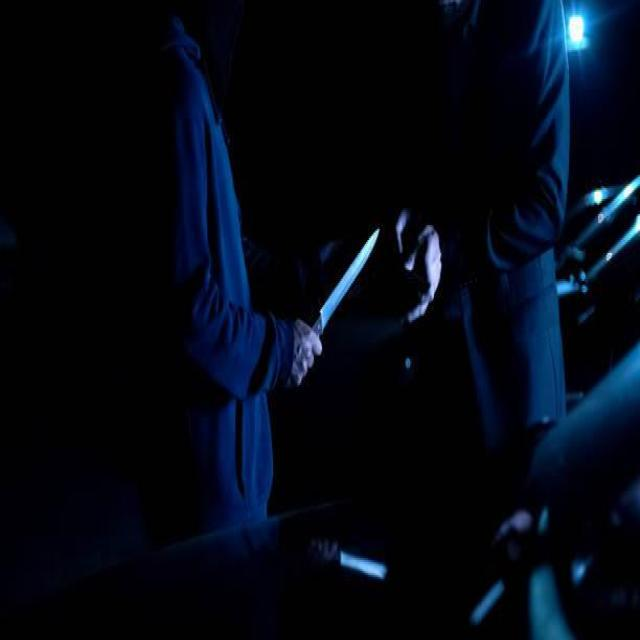faca: (293, 227, 386, 398)
